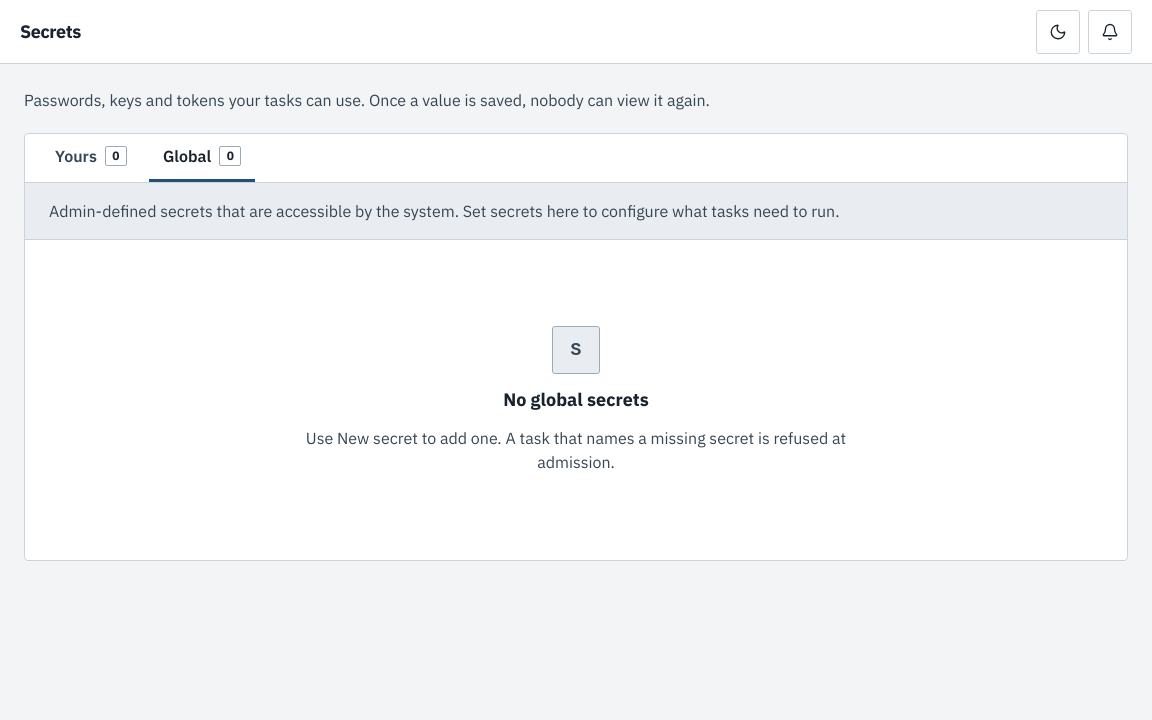
SecretsPage › names an empty Yours tab for a signed-in person
The width and height of the screenshot is (1152, 720).
Expected: the heading "No global secrets" is shown, [503,386,649,414]
Step 1. Click the tab "Yours 0" → (91, 158), box [41,134,141,182]
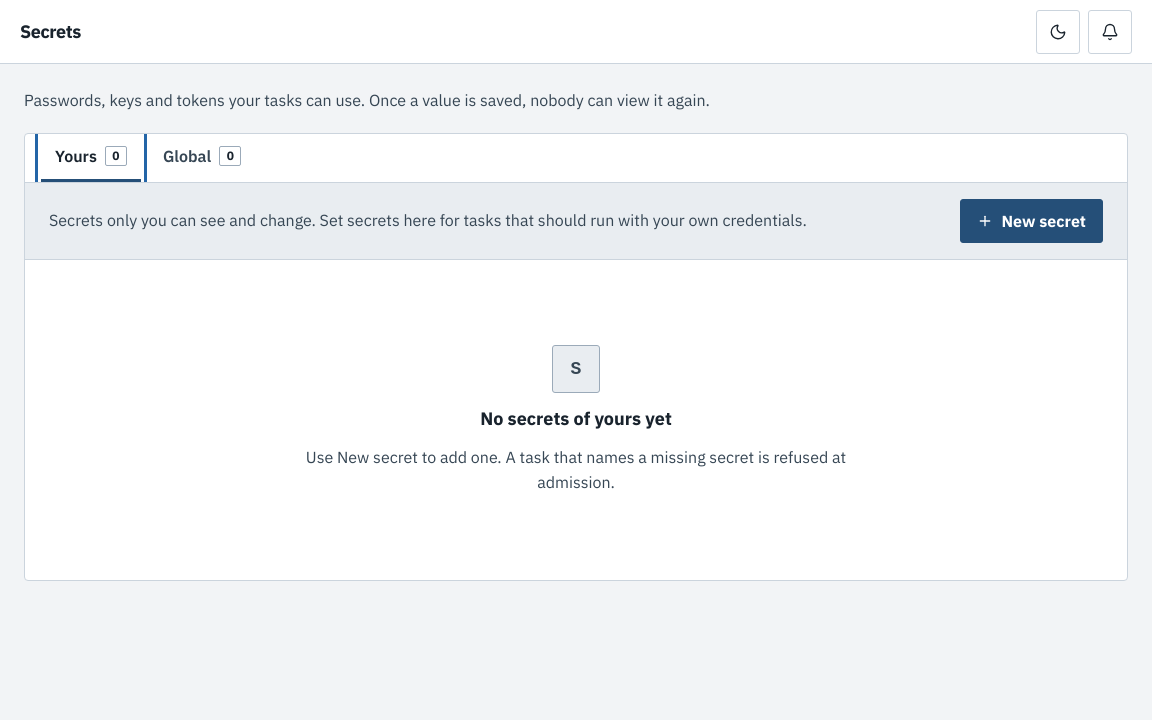
Result: the heading "No secrets of yours yet" is shown at [480,405,672,433]
Result: the text "Secrets only you can see" is shown at [49,210,807,230]
